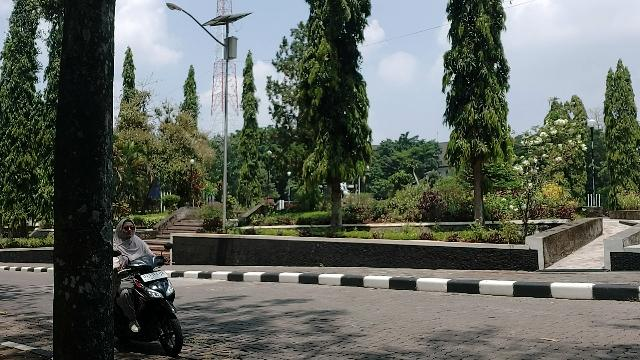motor: (113, 243, 185, 358)
non-helm: (119, 219, 137, 240)
